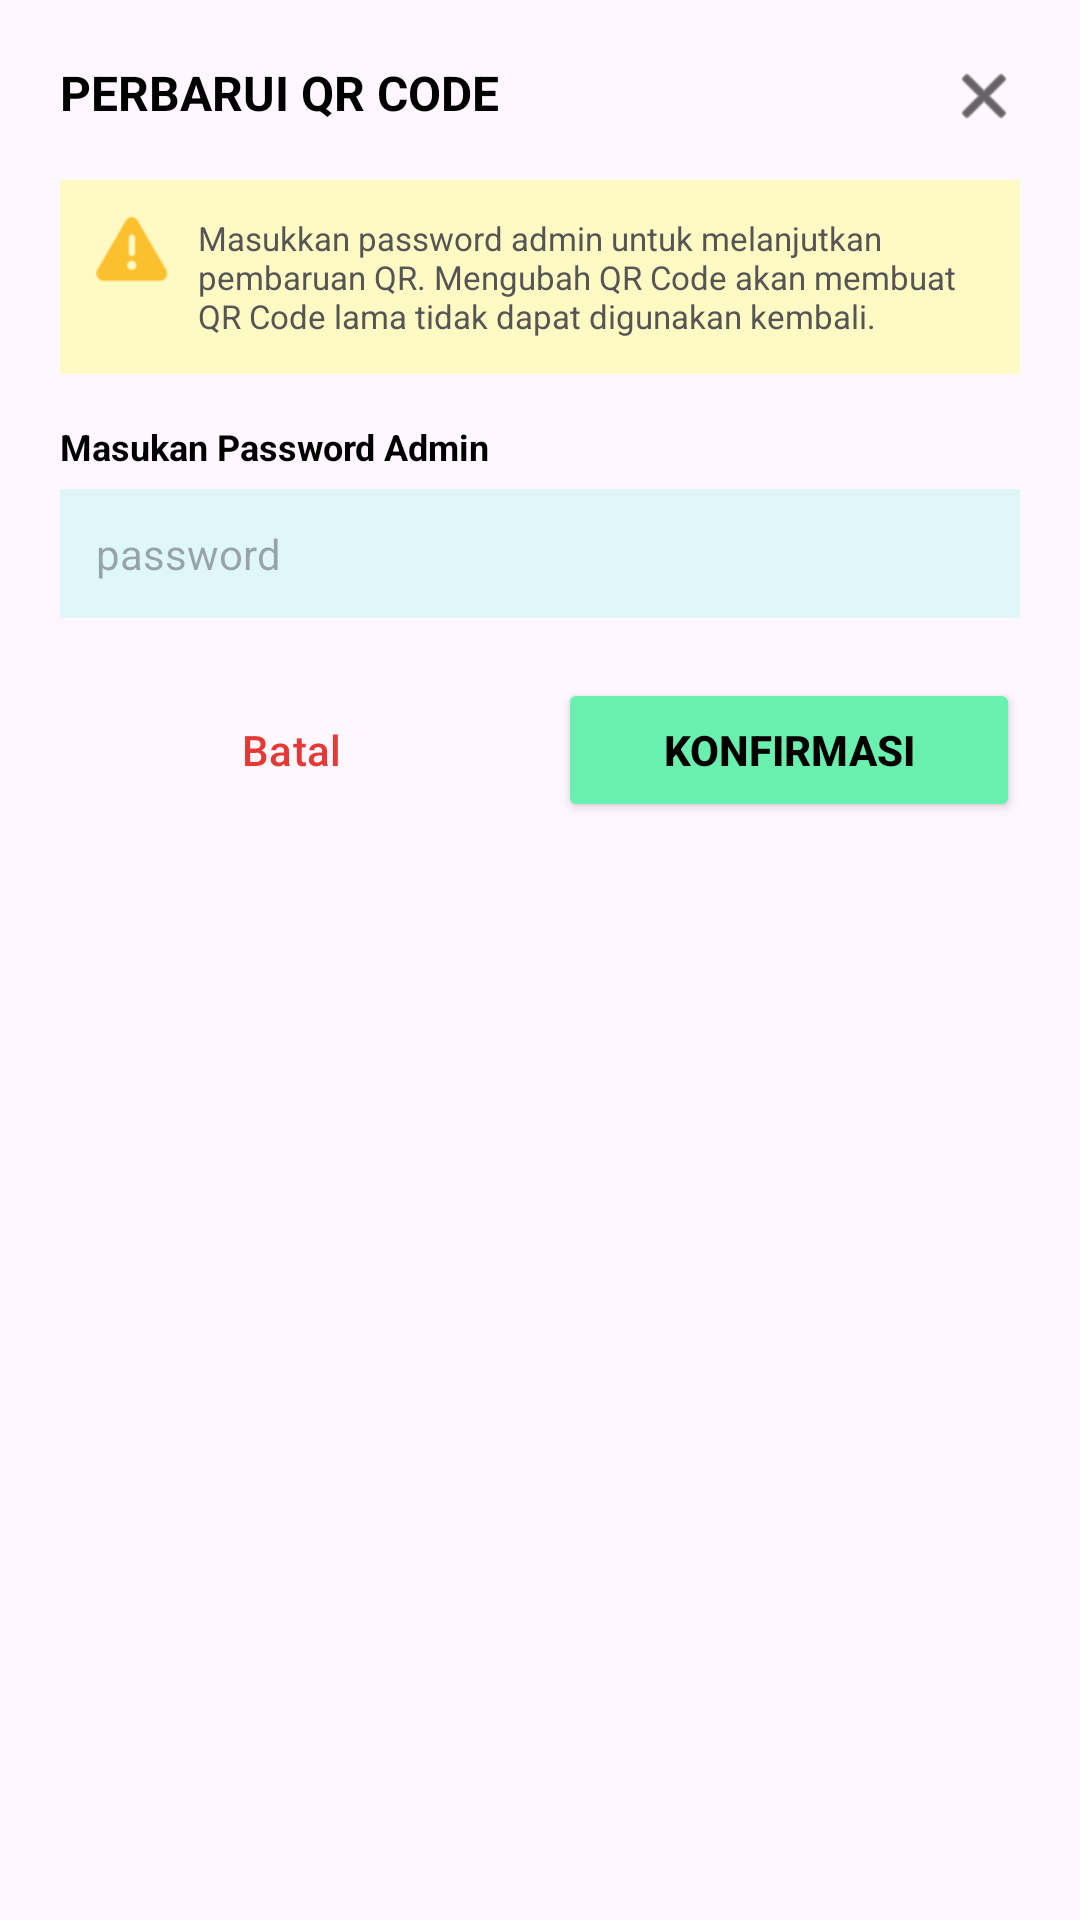

Icons on this 1080 × 1920 Android screen, each with its box as {"x1": x1, "y1": y1, "x2": x2, "y2": y2}:
alert: {"x1": 96, "y1": 217, "x2": 168, "y2": 282}
close clear cancel: {"x1": 961, "y1": 73, "x2": 1007, "y2": 119}
